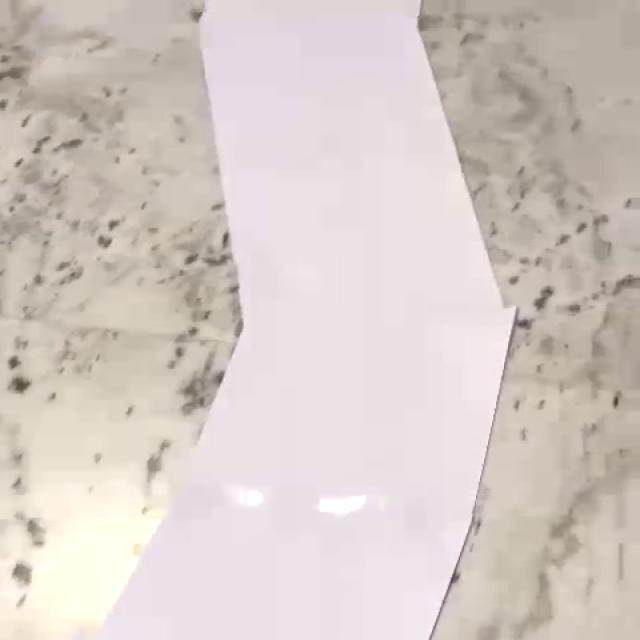road: (97, 0, 515, 640)
